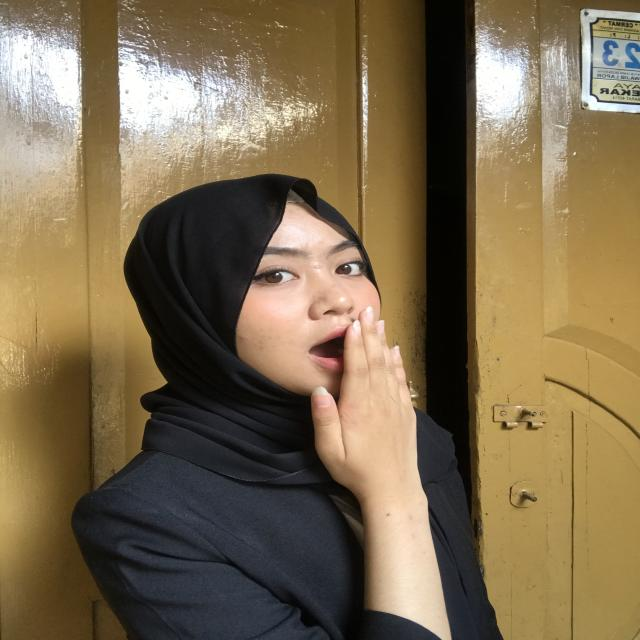ngantuk: (284, 298, 497, 539)
